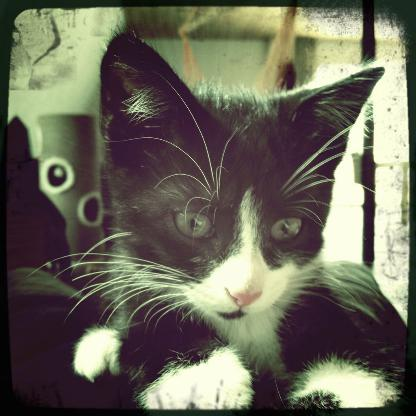Cat: (28, 20, 404, 406)
